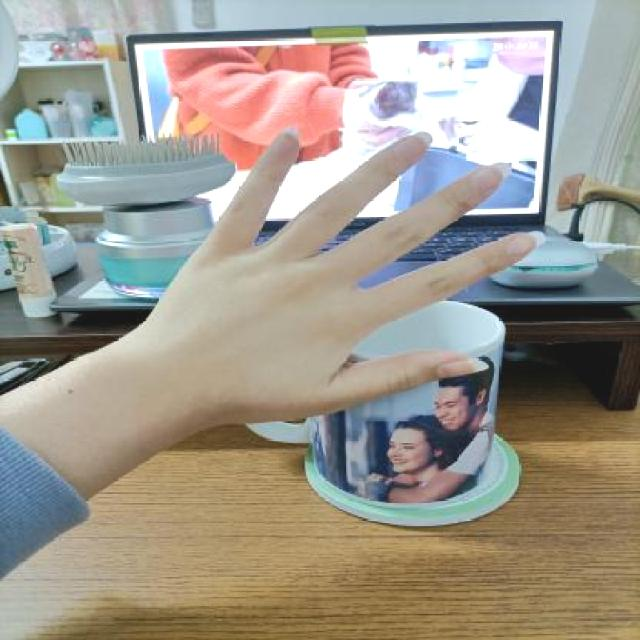no_glove: (114, 120, 560, 429)
